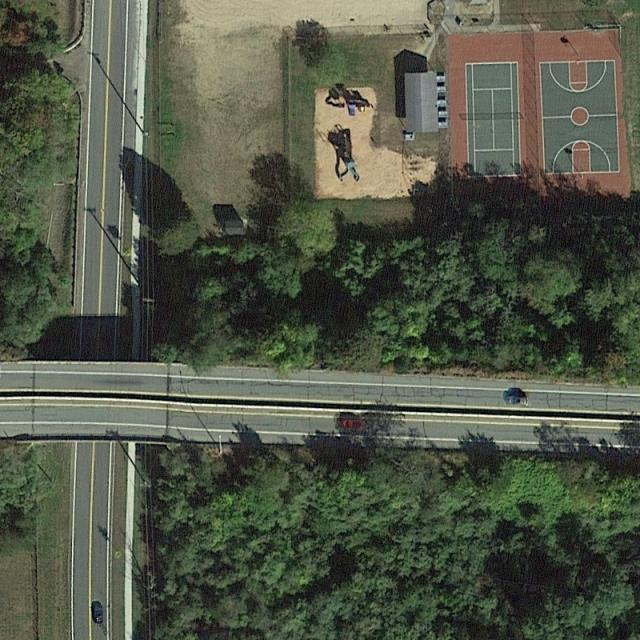vehicle: (341, 418, 364, 428), (510, 396, 528, 405), (94, 608, 102, 623)
